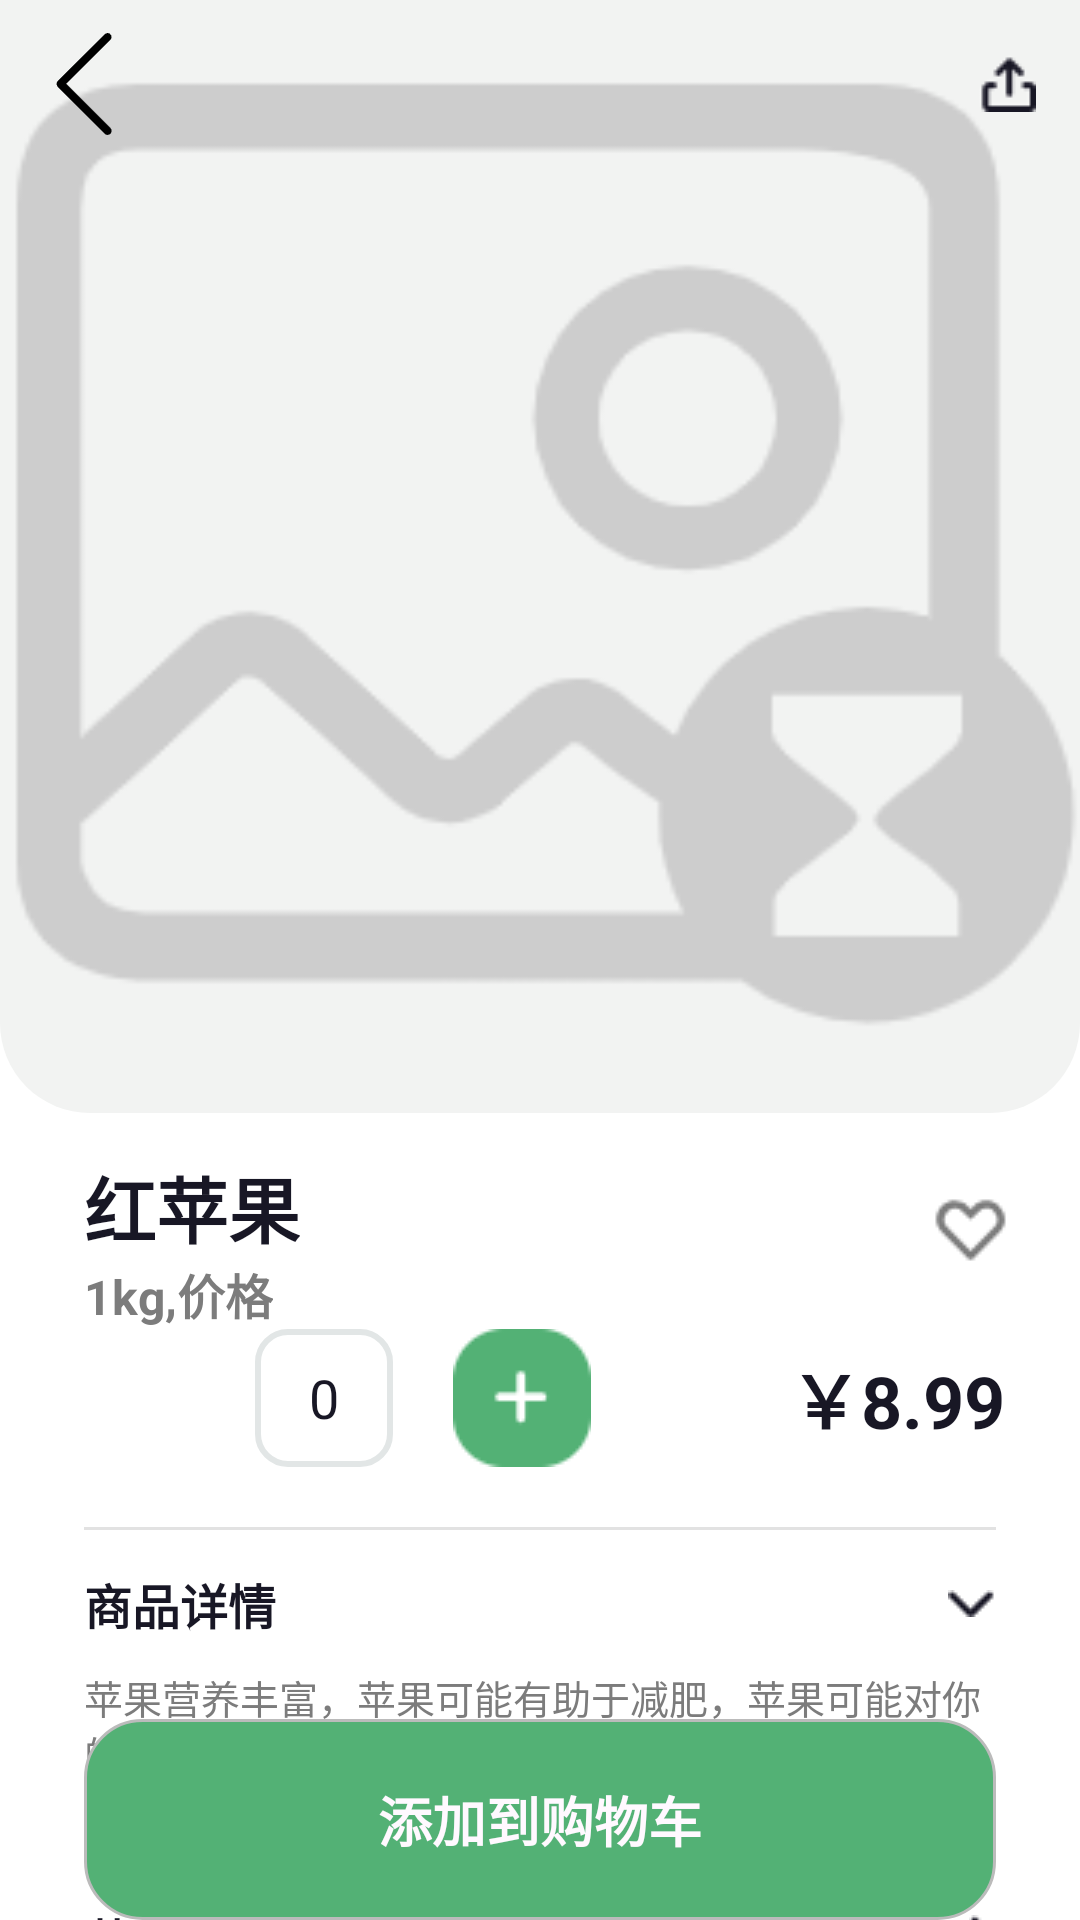

Icons on this 1080w x 1920h Android screen, each with its box as (x1, y1, x2, y2):
add: (453, 1329, 591, 1467)
arrow bottom: (948, 1590, 994, 1617)
not like: (935, 1199, 1006, 1261)
